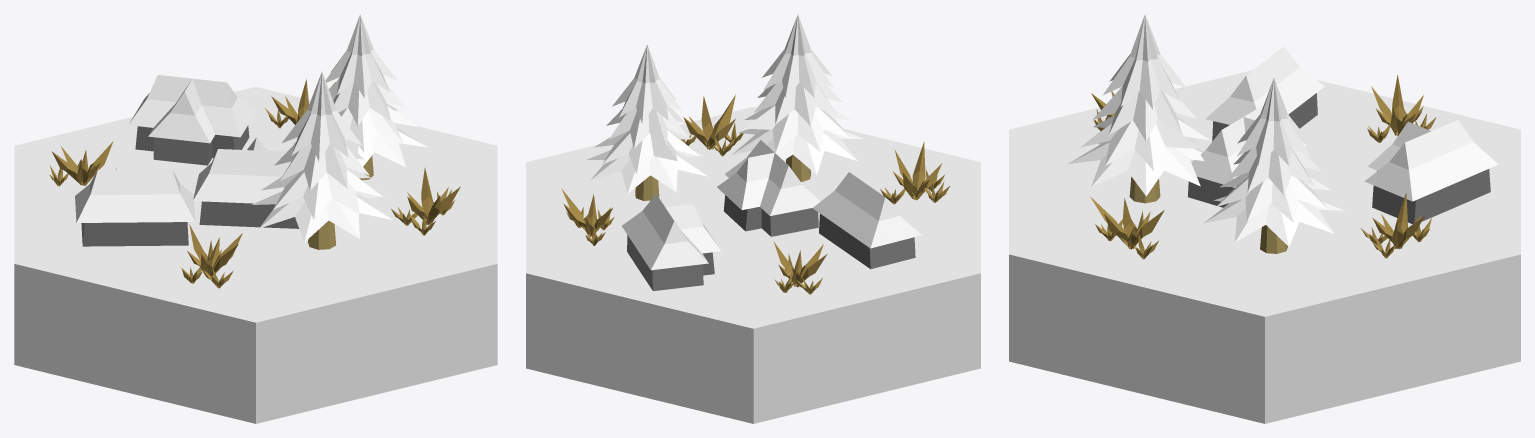
File: Casas_Pinos_Altos_Nieve_3.fbx
The picture shows the model from 3 angles, left to right: view 1: azimuth 30°, elevation 25°; view 2: azimuth 150°, elevation 25°; view 3: azimuth 270°, elevation 25°; orthographic projection. The views are drawn at different scales.
Visible parts, largest first — view 1: Casas_Pinos_Altos_Nieve_3; view 2: Casas_Pinos_Altos_Nieve_3; view 3: Casas_Pinos_Altos_Nieve_3.
Boxes of the visible parts, x1,y1,x2,y2 form: Casas_Pinos_Altos_Nieve_3: [14, 14, 497, 423]; Casas_Pinos_Altos_Nieve_3: [526, 14, 980, 423]; Casas_Pinos_Altos_Nieve_3: [1009, 14, 1520, 423].
Bounding box in the file's own units: 200 × 108 × 173.
